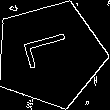L_E: (20, 33, 80, 76)
